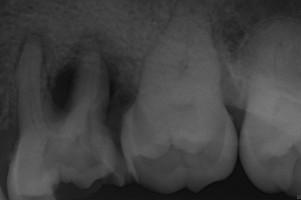Dental Caries: (49, 29, 137, 111)
Furcation Involvement: (13, 26, 54, 69)
